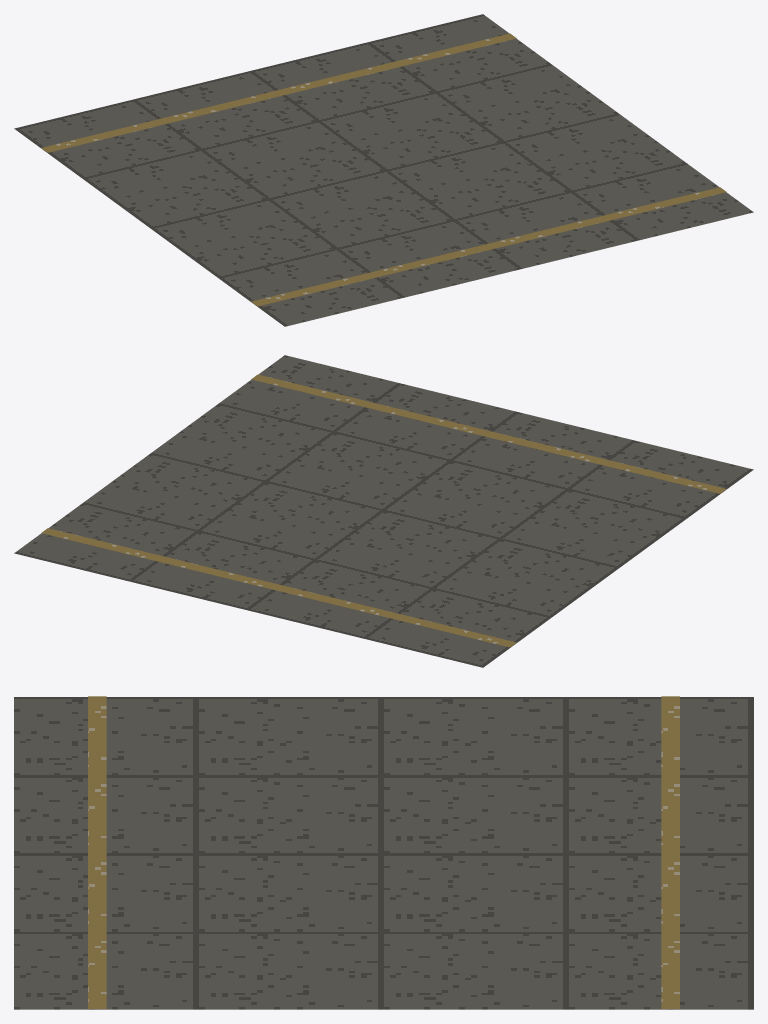
Rendered from floor_marked.glb.
3 views of the same model, one above another, from view 1: azimuth 30°, elevation 25°; view 2: azimuth 150°, elevation 25°; view 3: azimuth 270°, elevation 25° (orthographic). The views are drawn at different scales.
Parts seen in each view (by area): view 1: floor_marked mesh; view 2: floor_marked mesh; view 3: floor_marked mesh.
Boxes of the visible parts, x1=… form: floor_marked mesh: x1=14, y1=14, x2=753, y2=326; floor_marked mesh: x1=14, y1=355, x2=753, y2=667; floor_marked mesh: x1=14, y1=696, x2=753, y2=1009.
Bounding box in the file's own units: 4 × 0.004 × 4.
2 materials, 2 textured.
